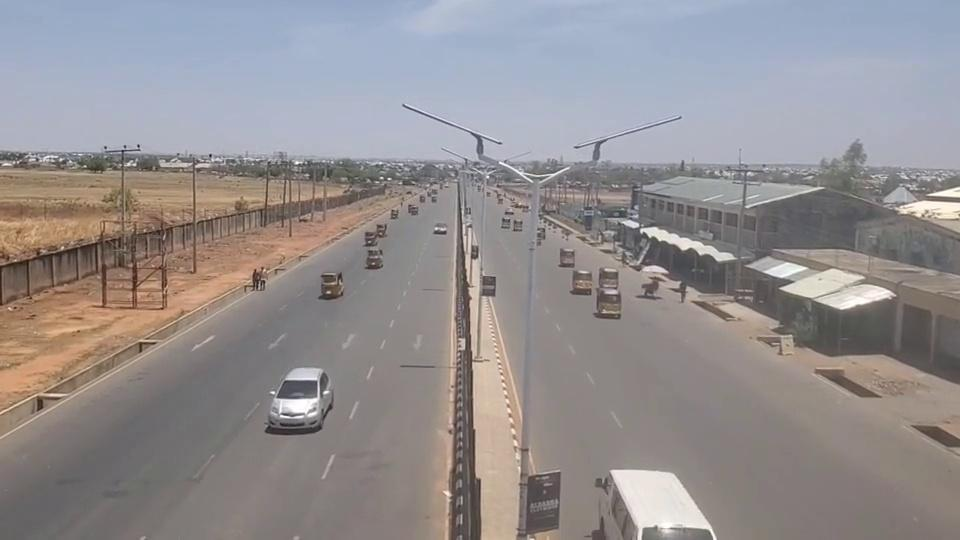bus: (599, 470, 717, 540)
car: (267, 366, 332, 430)
keke: (596, 286, 622, 318), (319, 271, 344, 297), (571, 269, 592, 294), (599, 266, 619, 289), (366, 248, 384, 269), (559, 247, 575, 267), (364, 230, 377, 246)
